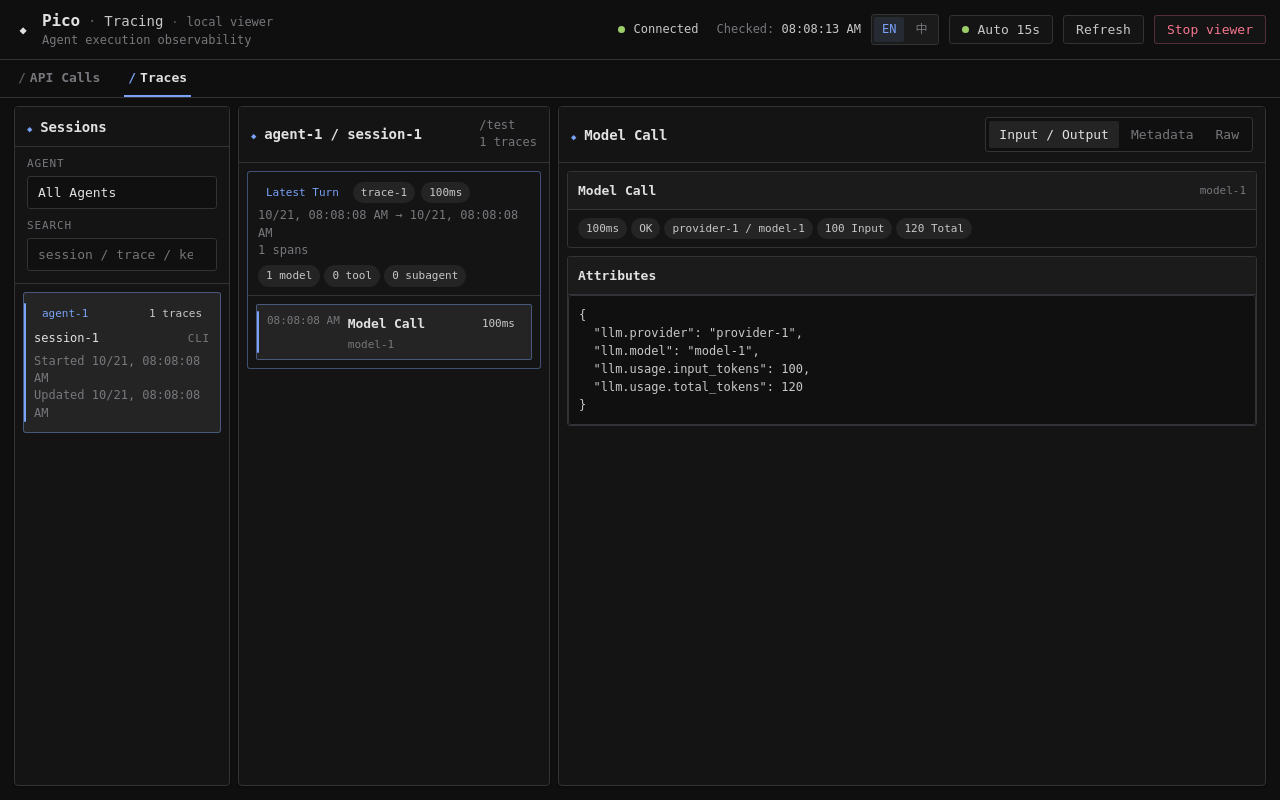
Scenario: React viewer lifecycle › keeps the confirmation open when shutdown fails
expect the text "session-1" is shown: met, box [34, 330, 99, 347]
Click the button "Stop viewer" at point(1210, 30), box [1154, 15, 1266, 44]
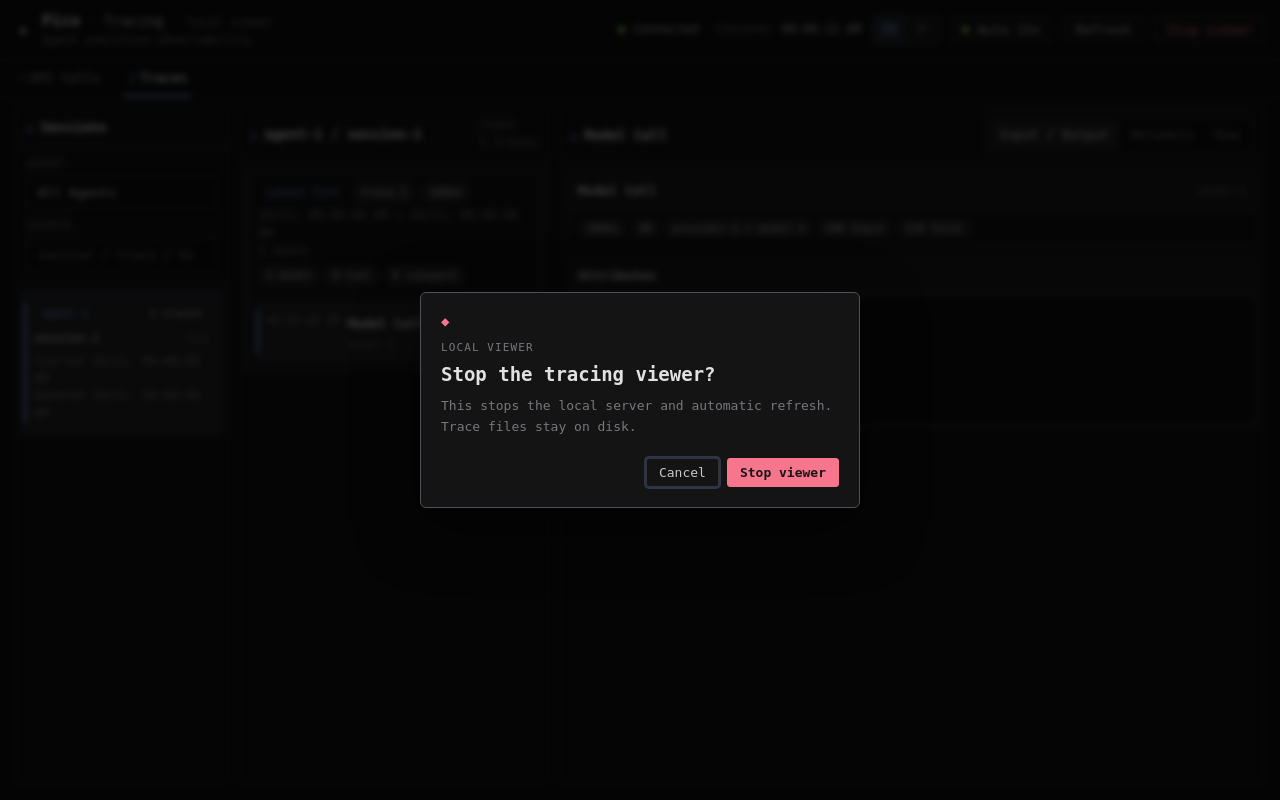
Click the button "Stop viewer" at point(783, 472), box [727, 458, 839, 487]
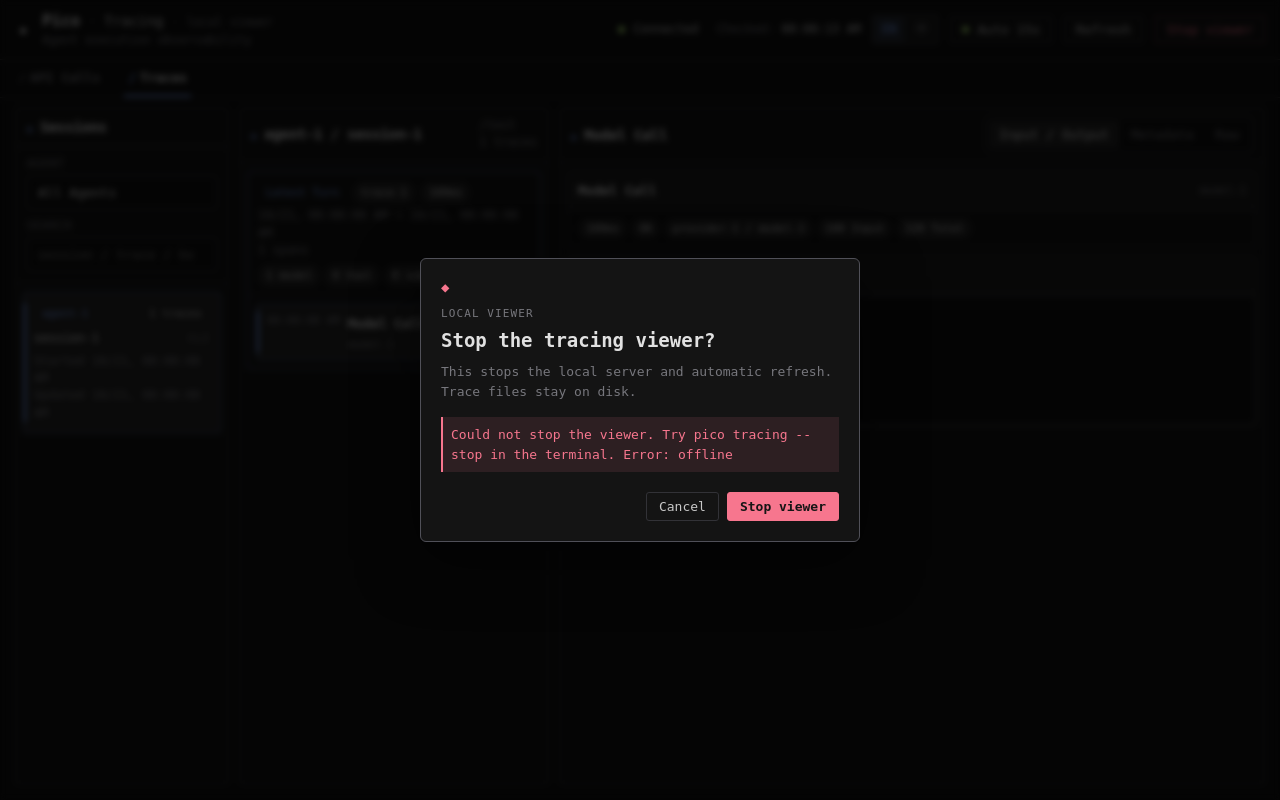
expect the message shows "offline": met, box [623, 447, 733, 462]
